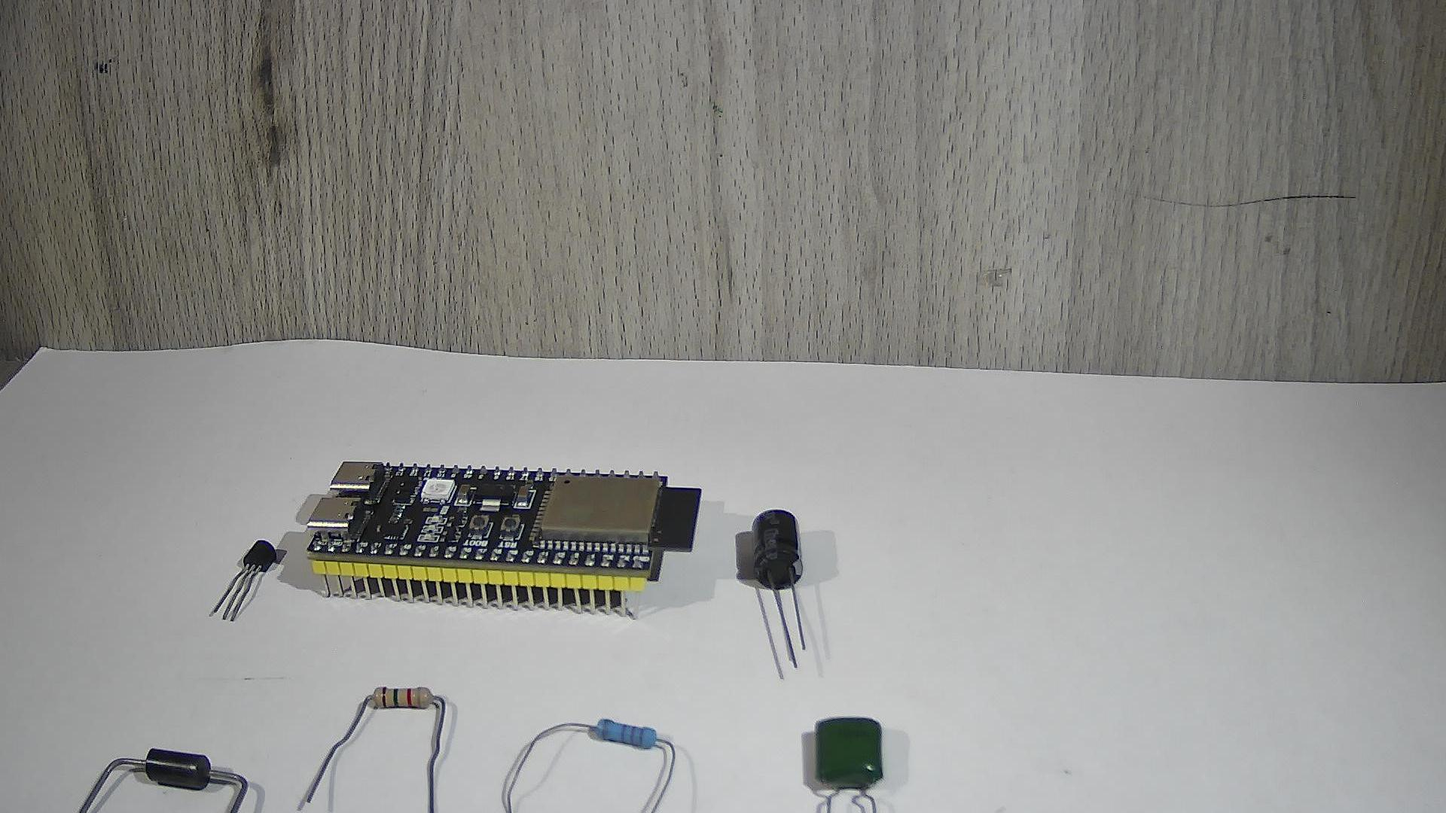Capacitor: (731, 484, 839, 682)
Diodo: (52, 731, 261, 813)
ESP32: (295, 436, 709, 643)
Resistencia: (293, 665, 458, 813), (494, 693, 681, 813)
Transistor: (196, 532, 283, 625)
capacitor ceramico: (777, 709, 920, 813)
